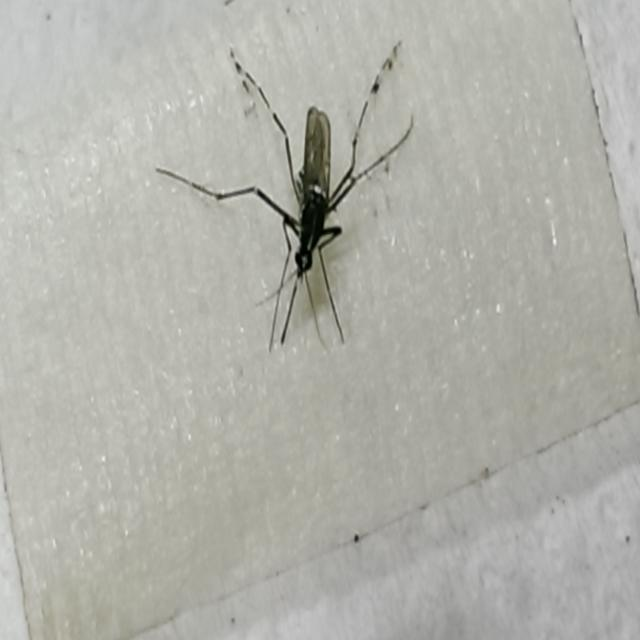albopictus: (162, 17, 418, 357)
